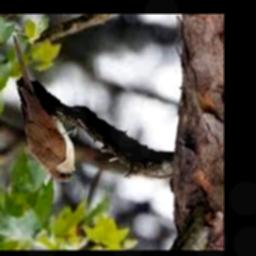Cuckoo: (13, 33, 81, 183)
